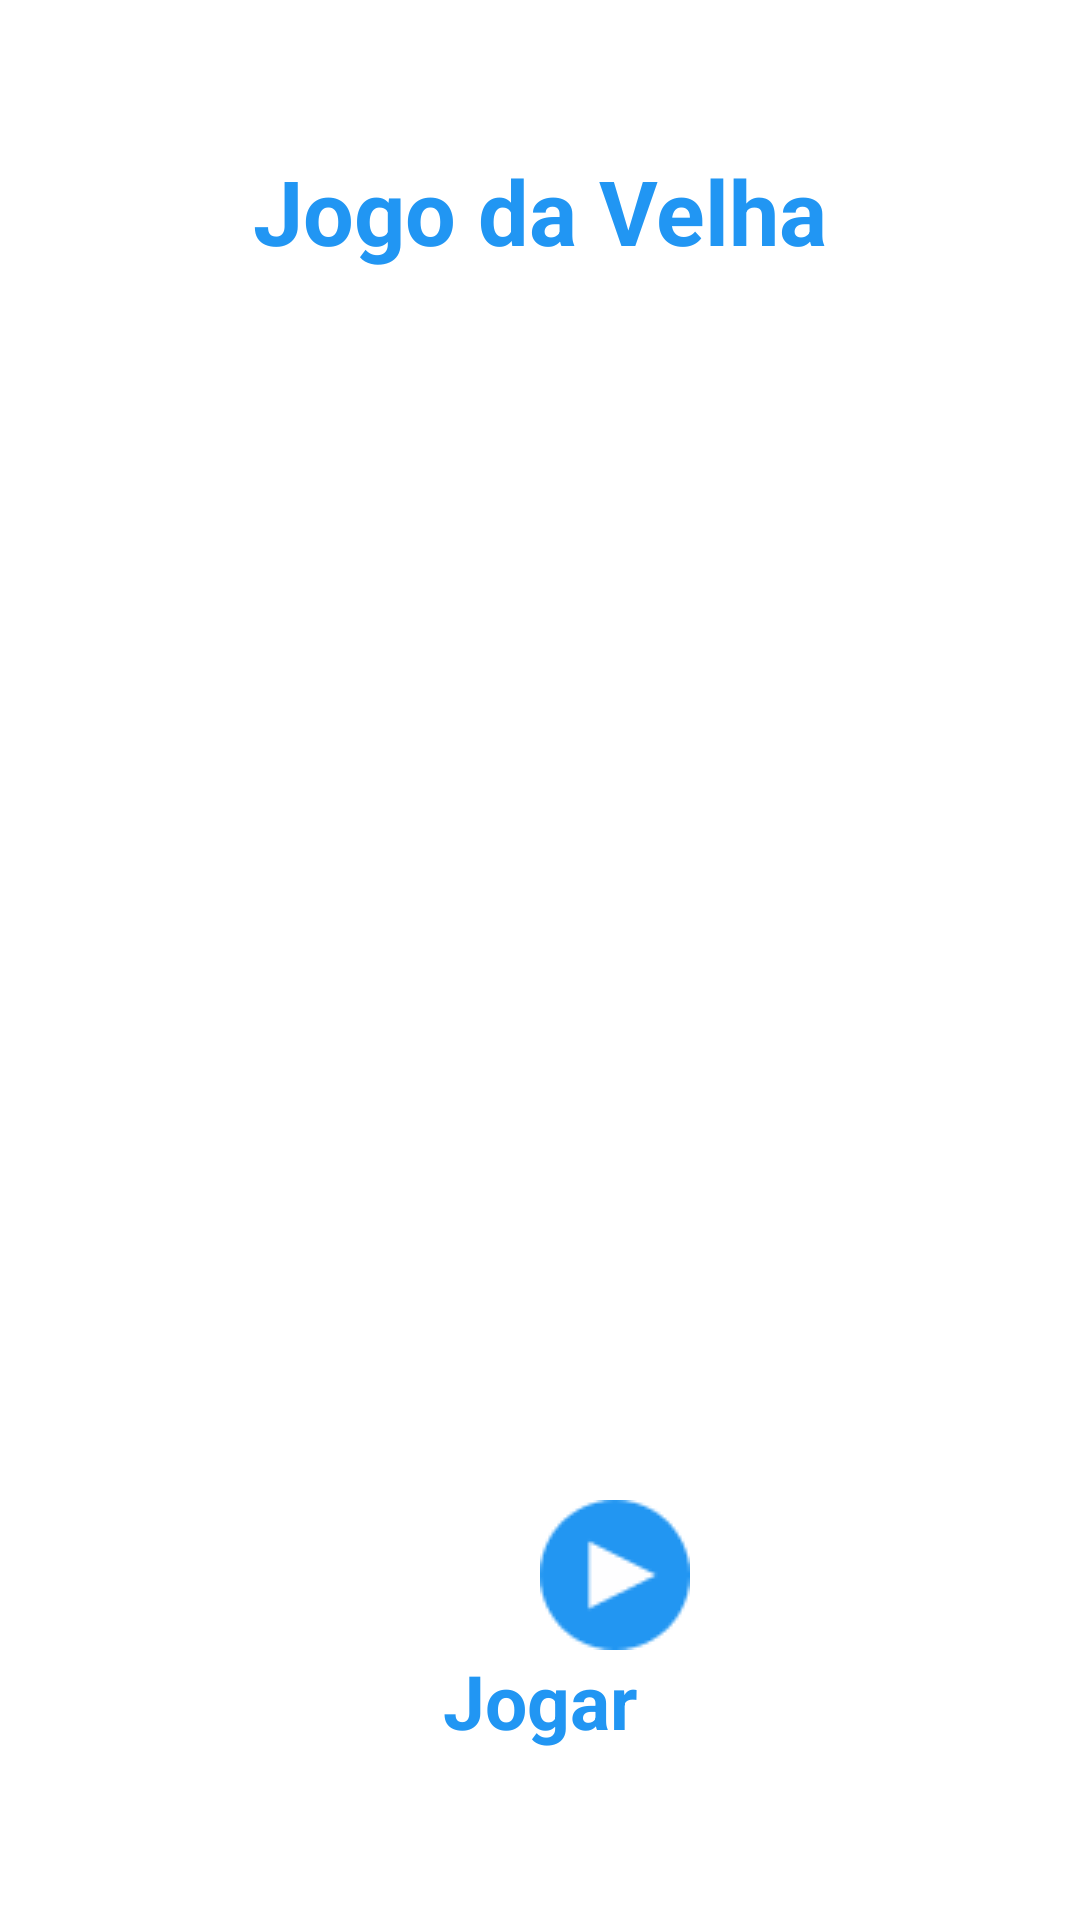

Screen size 1080 x 1920. Icon name, then its center in pixels as [x,y]:
play: [615,1575]
